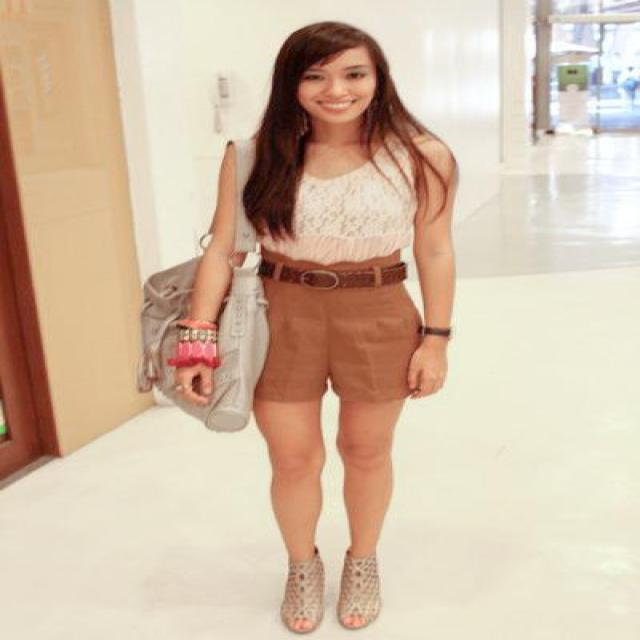bag: (133, 225, 267, 432)
shirt: (262, 141, 420, 286)
shoe: (278, 550, 381, 636)
shorts: (251, 276, 440, 422)
